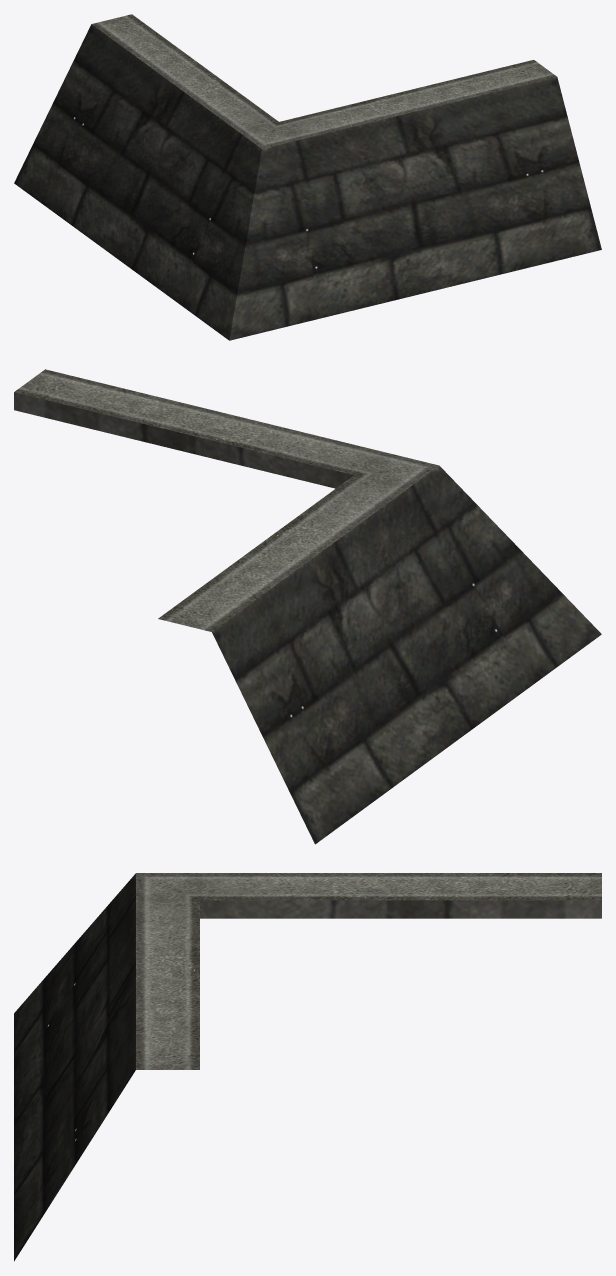
File: stadium_01_01.glb
3 views of the same model, one above another, from view 1: azimuth 30°, elevation 25°; view 2: azimuth 150°, elevation 25°; view 3: azimuth 270°, elevation 25° (orthographic). The views are drawn at different scales.
Visible parts, largest first — view 1: stadium_01_01; view 2: stadium_01_01; view 3: stadium_01_01.
Boxes of the visible parts, bbox=[...] form: stadium_01_01: bbox=[14, 14, 601, 340]; stadium_01_01: bbox=[14, 369, 601, 844]; stadium_01_01: bbox=[14, 873, 601, 1261].
Size of the model in its own units: 10.5 by 3.78 by 10.5.
1 material, 1 textured.
